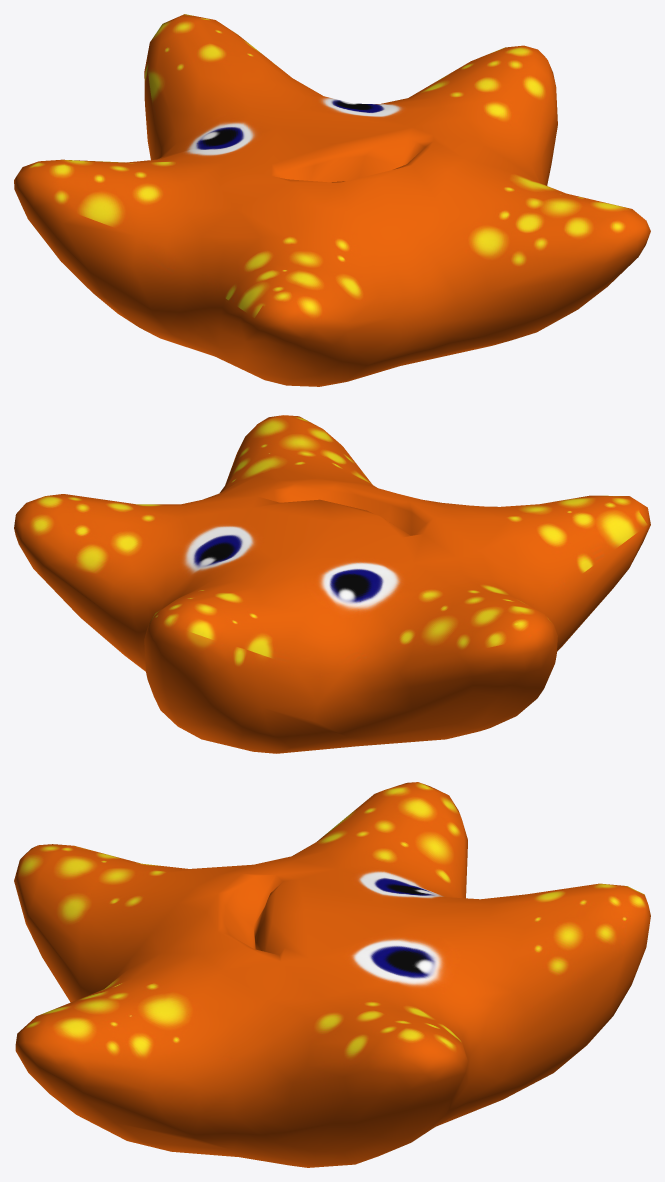
File: sstella_dec2.fbx
3 renders of one model, top to bottom at view 1: azimuth 30°, elevation 25°; view 2: azimuth 150°, elevation 25°; view 3: azimuth 270°, elevation 25°, orthographic. The views are drawn at different scales.
Parts seen in each view (by area): view 1: Group57341; view 2: Group57341; view 3: Group57341.
Boxes of the visible parts, x1,y1,x2,y2 form: Group57341: (14, 14, 650, 386); Group57341: (14, 415, 650, 753); Group57341: (14, 782, 650, 1167).
Size of the model in its own units: 1056 by 407 by 1027.
Materials: 1 (1 with a texture image).
